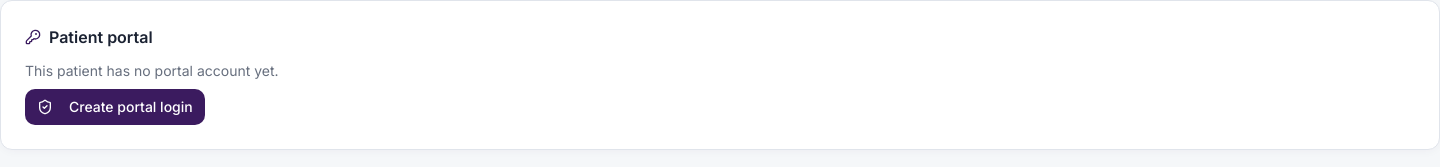
Test: keeps a single create request in flight and recovers after rejection
Step 1. Click the button "Create portal login" → (115, 107), box left=25, top=89, right=205, bottom=125
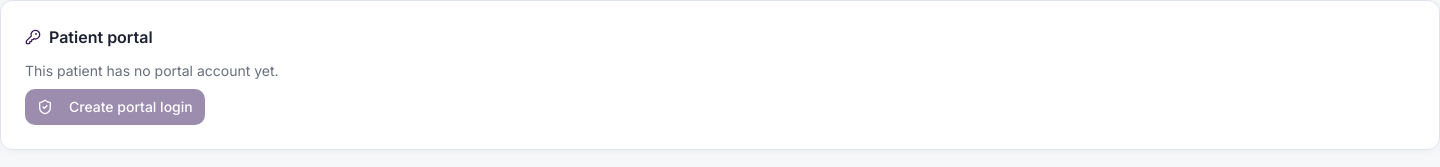
Step 2. Click the button "Create portal login" → (115, 107), box left=25, top=89, right=205, bottom=125
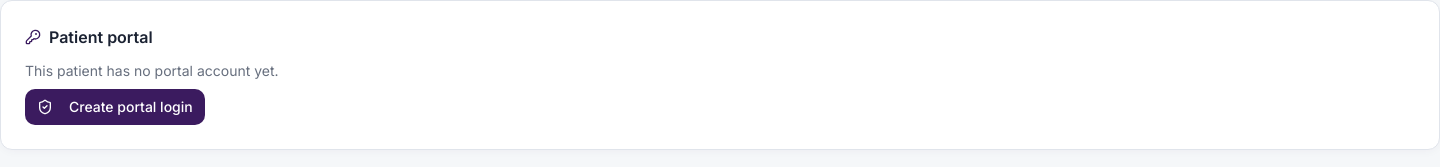
Expected: the button "Create portal login" is enabled, left=25, top=89, right=205, bottom=125
